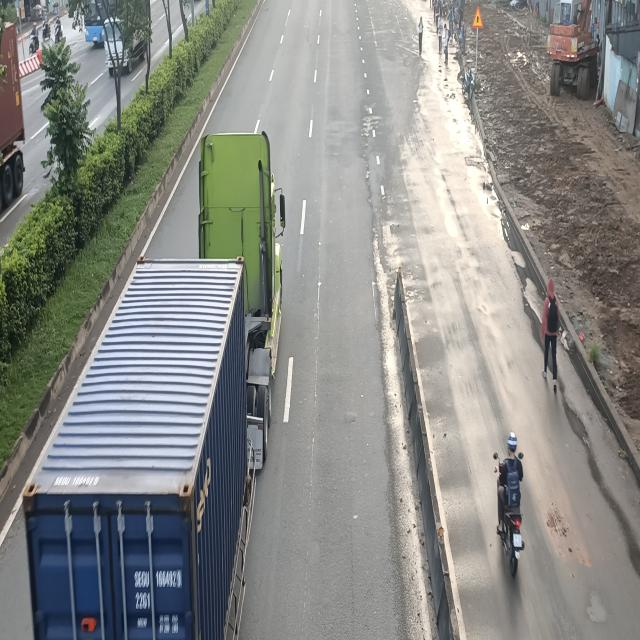container: (19, 131, 281, 640)
